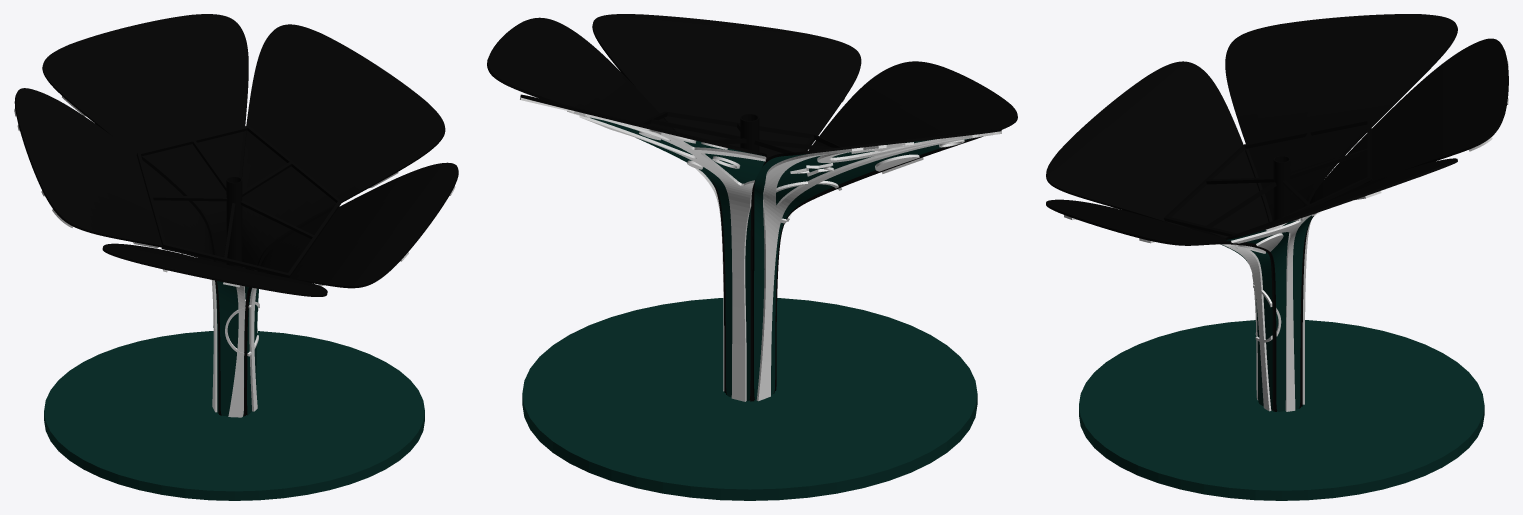
File: WishTree.fbx
The picture shows the model from 3 angles, left to right: view 1: azimuth 30°, elevation 25°; view 2: azimuth 150°, elevation 25°; view 3: azimuth 270°, elevation 25°; orthographic projection. The views are drawn at different scales.
Parts seen in each view (by area): view 1: Circle.025, 003-MidPetal2.024, 001-Bigpetal.027, 002-MedPetal.024, 005-SmallPetal2.049, Generic Models 8 Generic Models 8 [2266086].007, 004-SmallPetal.023, 004-SmallPetal.025, 005-SmallPetal2.048, 002-MedPetal.023; view 2: Circle.025, 005-SmallPetal2.049, 004-SmallPetal.023, 003-MidPetal2.024, 002-MedPetal.024, 001-Bigpetal.025, 001-Bigpetal.027, 002-MedPetal.023, Generic Models 8 Generic Models 8 [2266086].007, 002-MedPetal.025; view 3: Circle.025, 002-MedPetal.024, 004-SmallPetal.023, 001-Bigpetal.027, Generic Models 8 Generic Models 8 [2266086].007, 003-MidPetal2.024, 005-SmallPetal2.049, 003-MidPetal2.023, 005-SmallPetal2.048, 001-Bigpetal.025.
Boxes of the visible parts, bbox=[...] form: Circle.025: bbox=[44, 331, 424, 500]; 003-MidPetal2.024: bbox=[242, 24, 445, 297]; 001-Bigpetal.027: bbox=[42, 14, 248, 264]; 002-MedPetal.024: bbox=[14, 88, 219, 413]; 005-SmallPetal2.049: bbox=[245, 162, 458, 415]; Generic Models 8 Generic Models 8 [2266086].007: bbox=[136, 125, 341, 416]; 004-SmallPetal.023: bbox=[102, 243, 327, 416]; 004-SmallPetal.025: bbox=[163, 269, 245, 417]; 005-SmallPetal2.048: bbox=[249, 186, 455, 411]; 002-MedPetal.023: bbox=[14, 109, 217, 412]; Circle.025: bbox=[522, 298, 977, 500]; 005-SmallPetal2.049: bbox=[592, 14, 861, 156]; 004-SmallPetal.023: bbox=[775, 61, 1017, 390]; 003-MidPetal2.024: bbox=[487, 17, 726, 393]; 002-MedPetal.024: bbox=[752, 128, 1001, 400]; 001-Bigpetal.025: bbox=[520, 97, 766, 401]; 001-Bigpetal.027: bbox=[520, 94, 766, 401]; 002-MedPetal.023: bbox=[756, 131, 1001, 401]; Generic Models 8 Generic Models 8 [2266086].007: bbox=[639, 111, 874, 401]; 002-MedPetal.025: bbox=[766, 139, 964, 223]; Circle.025: bbox=[1079, 320, 1484, 500]; 002-MedPetal.024: bbox=[1225, 14, 1457, 220]; 004-SmallPetal.023: bbox=[1046, 61, 1268, 244]; 001-Bigpetal.027: bbox=[1300, 38, 1508, 406]; Generic Models 8 Generic Models 8 [2266086].007: bbox=[1164, 119, 1372, 411]; 003-MidPetal2.024: bbox=[1225, 158, 1457, 411]; 005-SmallPetal2.049: bbox=[1046, 199, 1274, 410]; 003-MidPetal2.023: bbox=[1231, 191, 1381, 411]; 005-SmallPetal2.048: bbox=[1064, 215, 1271, 411]; 001-Bigpetal.025: bbox=[1302, 60, 1508, 404].
Size of the model in its own units: 422 by 329 by 411.
